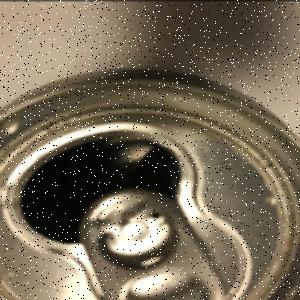Can: (2, 68, 300, 300)
